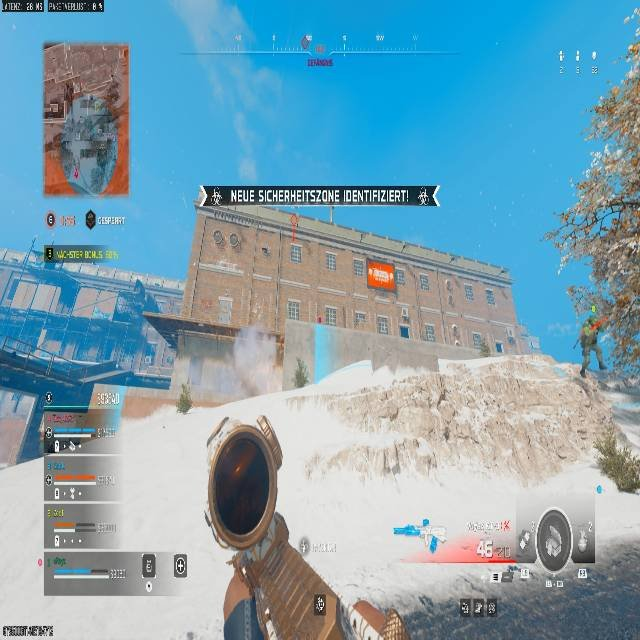player: (579, 314, 608, 377)
